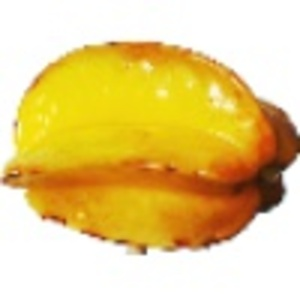carambola: (1, 38, 300, 257)
